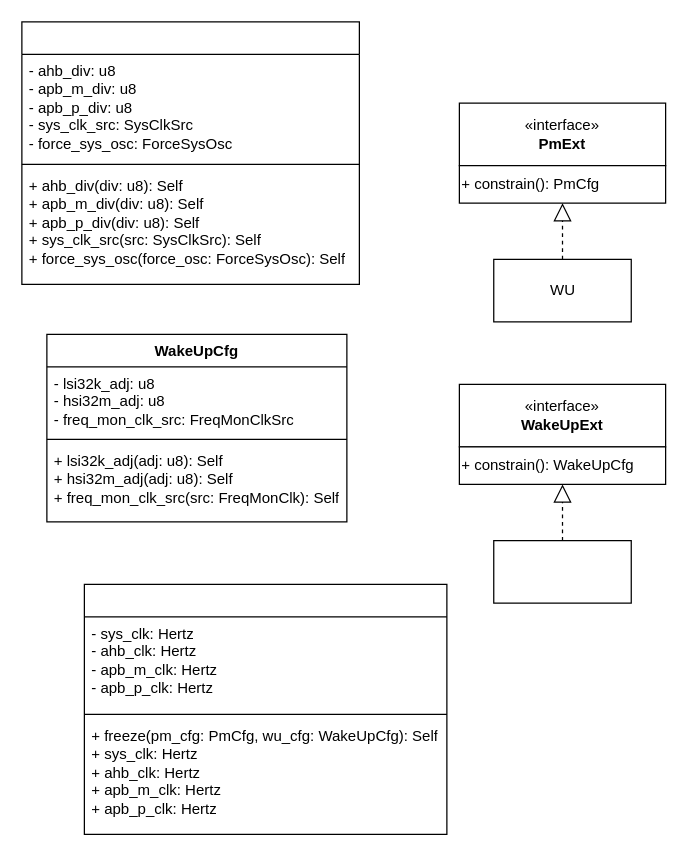
Some shapes in this 688 by 860 pixel diagram are drawn without their labels. The shapes that lost their labels are listed below. From the top down, each one's box as (x1, y1, x2, y2) in pixels, then its label:
(21, 21, 359, 284): PmCfg
(492, 539, 631, 603): PM
(83, 583, 447, 834): Clocks
